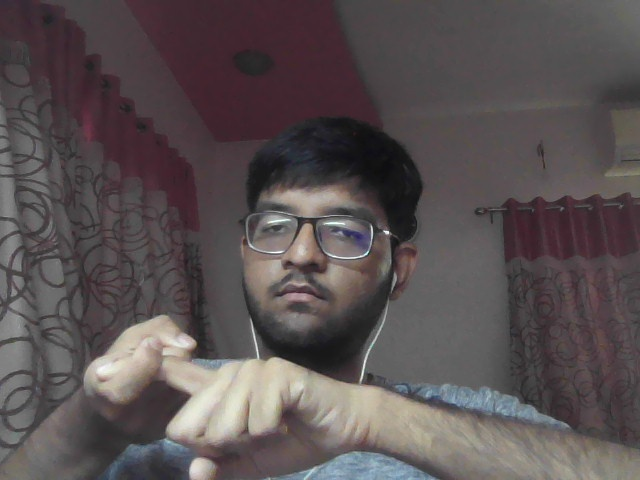મિત્ર: (57, 309, 392, 480)
